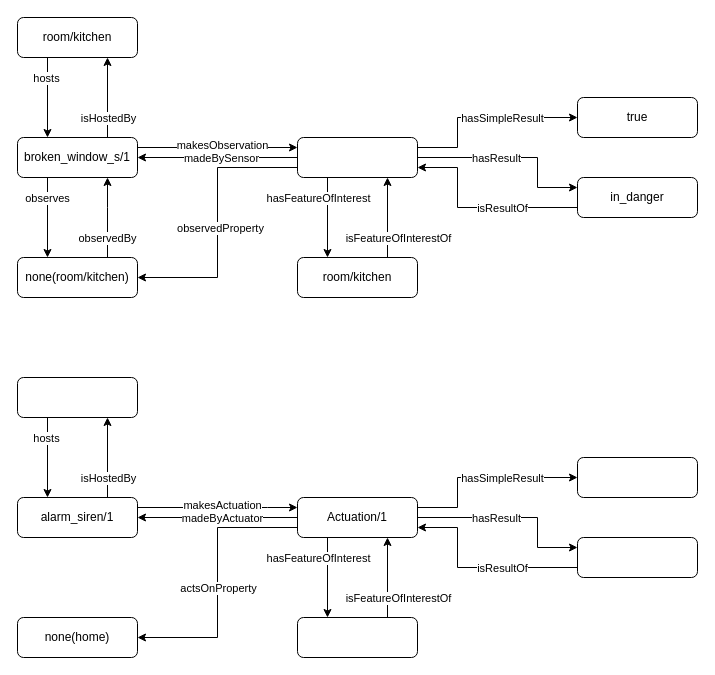
Image size: 715x675. Some labels were removed from this diagram. Each missing label, with the box of its shape:
home: (296, 616, 418, 658)
in_alarm: (576, 536, 698, 578)
Observation/1: (296, 136, 418, 178)
on: (576, 456, 698, 498)
room/corridor: (16, 376, 138, 418)
